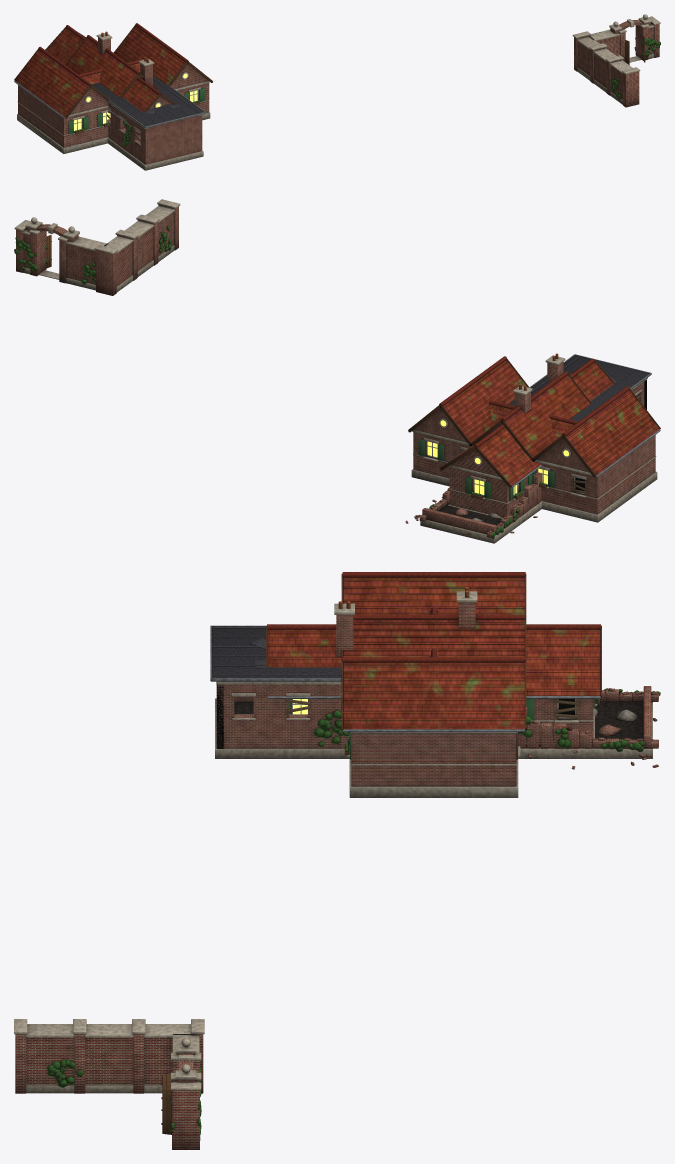
Rendered from houses.glb.
3 views of the same model, one above another, from view 1: azimuth 30°, elevation 25°; view 2: azimuth 150°, elevation 25°; view 3: azimuth 270°, elevation 25° (orthographic). The views are drawn at different scales.
Parts seen in each view (by area): view 1: house_3910_2670, ruin_2750_2420, courtyard, house_4350_1675, house_3275_1625, house_3910_2670_glow; view 2: house_3910_2670, courtyard, house_4350_1675, ruin_2750_2420, house_3275_1625; view 3: house_3910_2670, ruin_2750_2420, courtyard, house_4350_1675.
Boxes of the visible parts, x1,y1,x2,y2 form: house_3910_2670: [14, 23, 212, 153]; ruin_2750_2420: [92, 75, 205, 170]; courtyard: [572, 14, 660, 107]; house_4350_1675: [45, 25, 176, 139]; house_3275_1625: [79, 58, 148, 84]; house_3910_2670_glow: [74, 73, 197, 130]; house_3910_2670: [408, 356, 660, 522]; courtyard: [14, 199, 180, 295]; house_4350_1675: [439, 353, 614, 518]; ruin_2750_2420: [405, 354, 651, 543]; house_3275_1625: [488, 400, 578, 440]; house_3910_2670: [341, 572, 526, 797]; ruin_2750_2420: [210, 625, 660, 769]; courtyard: [14, 1019, 204, 1149]; house_4350_1675: [266, 601, 601, 743].
Size of the model in its own units: 48.43 by 6.75 by 27.4.
6 materials, 5 textured.
